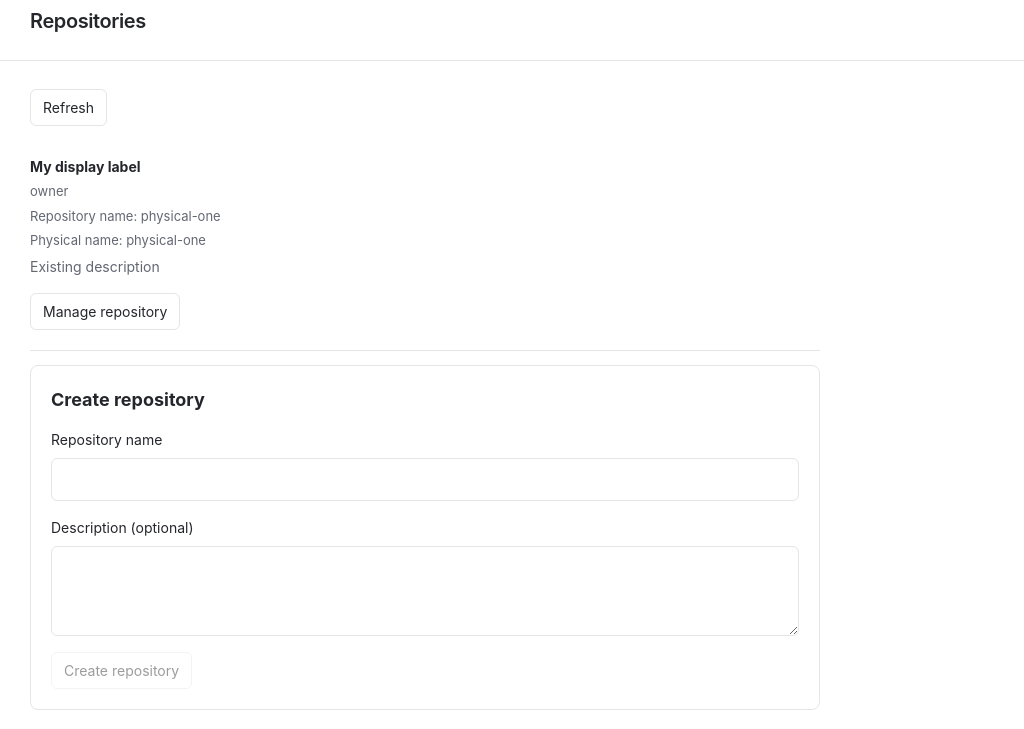
quarantines unknown deletion results, never displays diagnostics, and refreshes without POST
Click the button "Manage repository".
click(105, 311)  # box [30, 292, 180, 330]
(page scrolled)
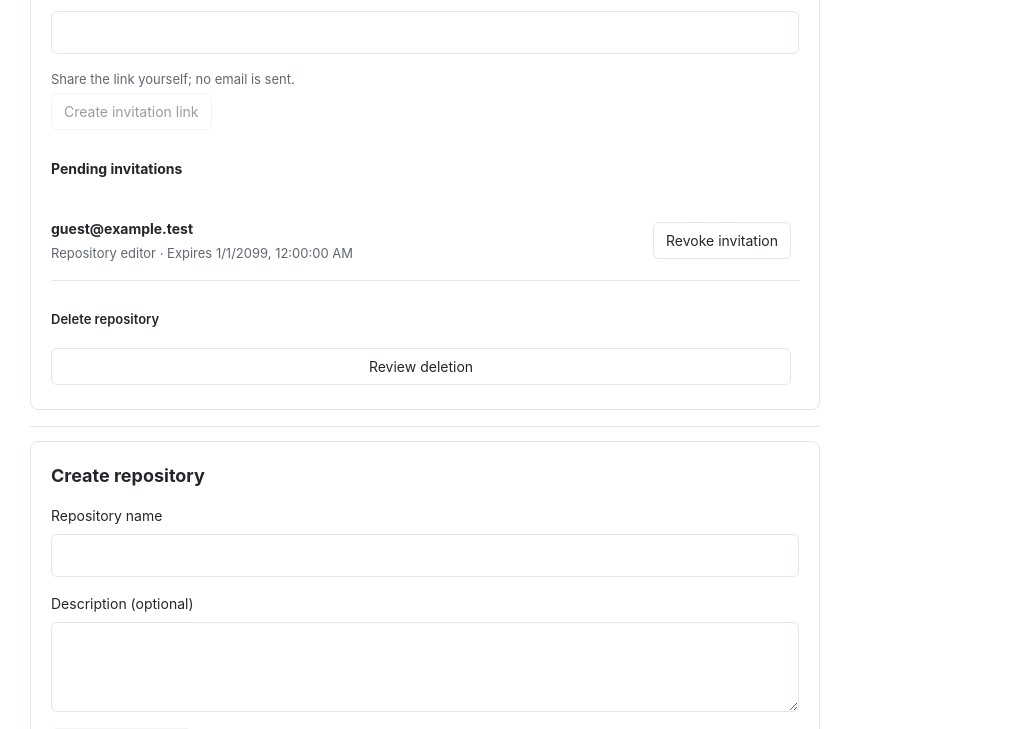
Click the button "Review deletion".
click(421, 367)  # box [51, 348, 791, 385]
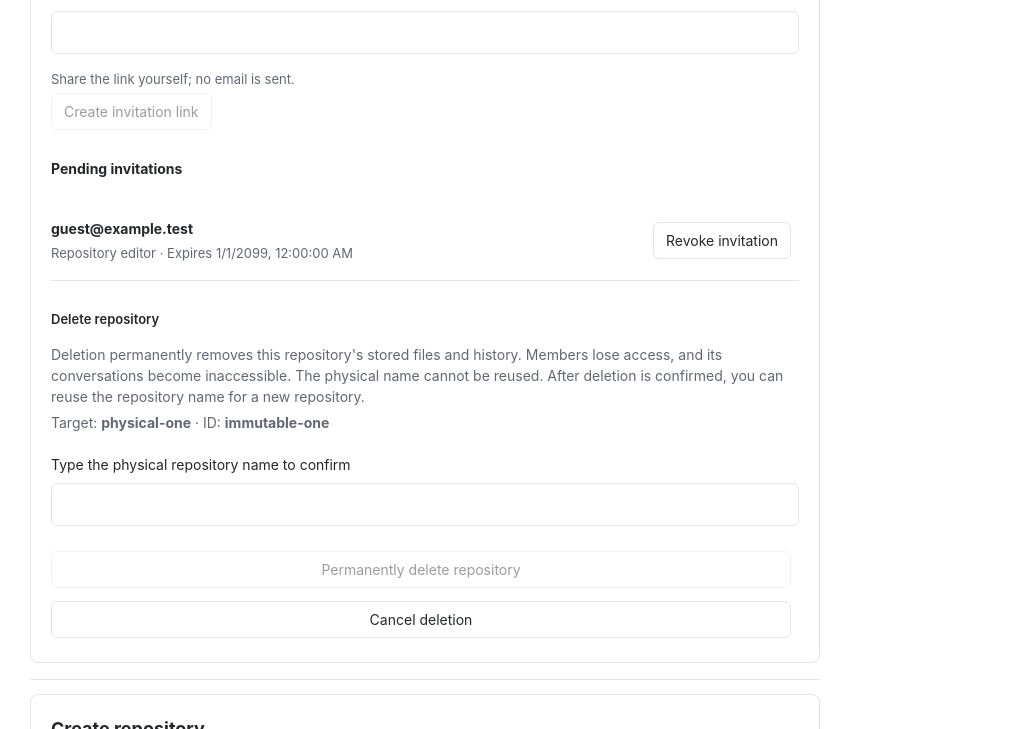
Type "physical-one" into the field labelled "Type the physical repository name to confirm".
click(425, 505); type("physical-one")  # box [51, 483, 799, 526]
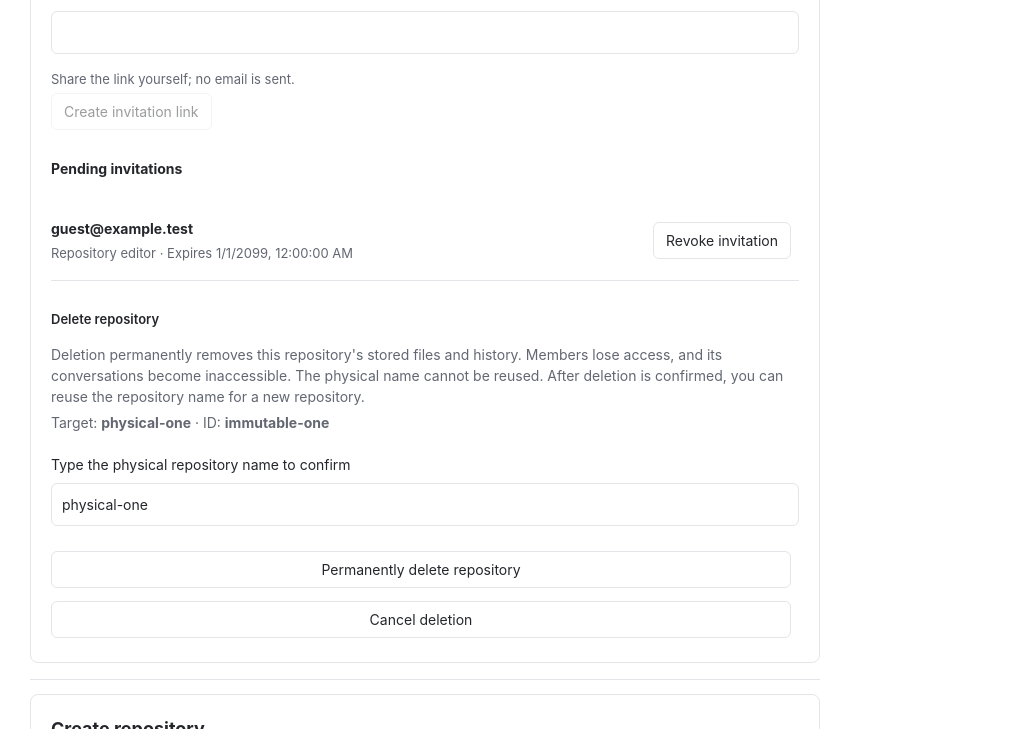
Click the button "Permanently delete repository".
click(421, 570)  # box [51, 551, 791, 588]
(page scrolled)
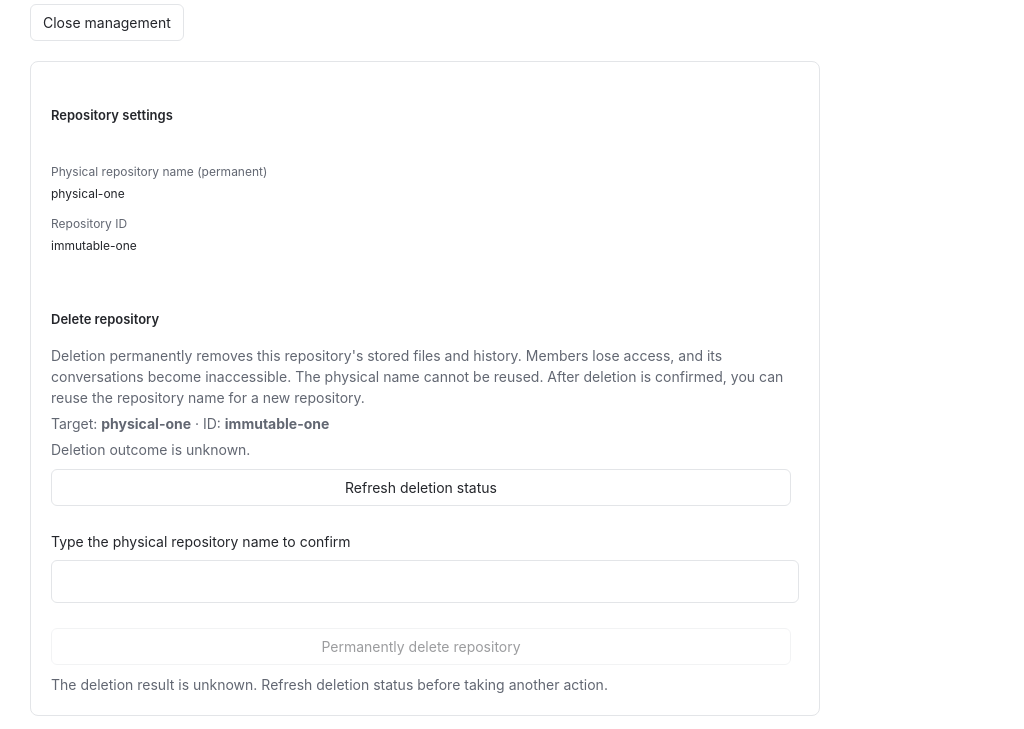
Result: the text "deletion result is unknown" is shown at [51, 676, 608, 692]
Result: the button "Permanently delete repository" is disabled at [51, 628, 791, 664]
Click the button "Refresh deletion status".
click(421, 487)  # box [51, 468, 791, 506]
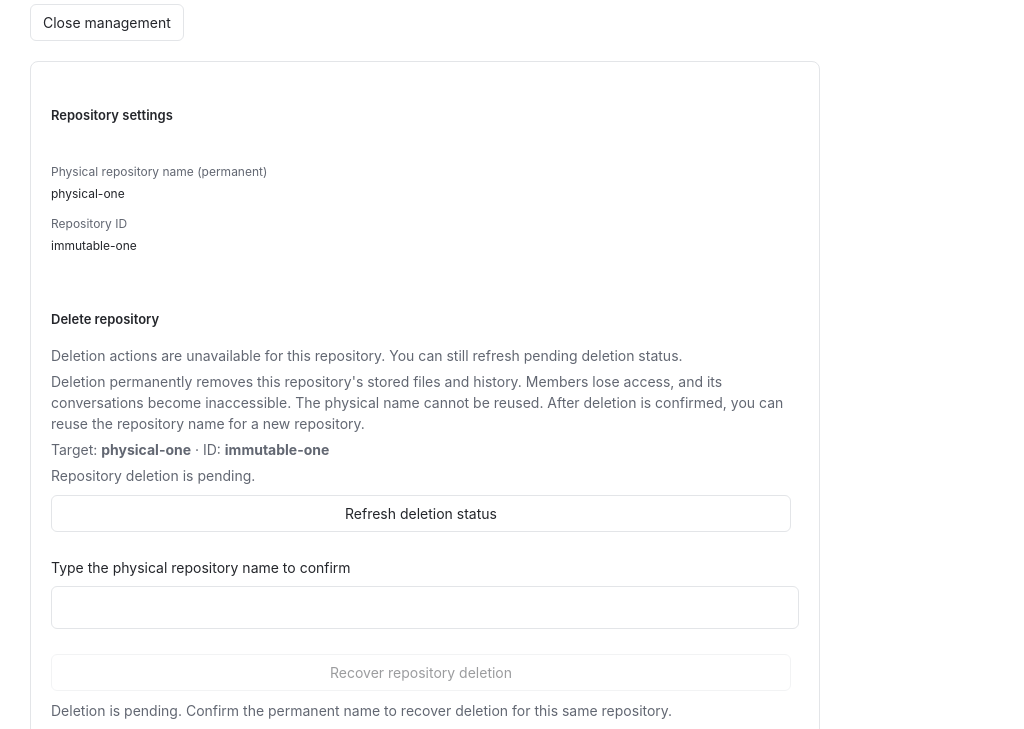
Result: the text "Confirm the permanent name to recover" is shown at [51, 702, 672, 718]
